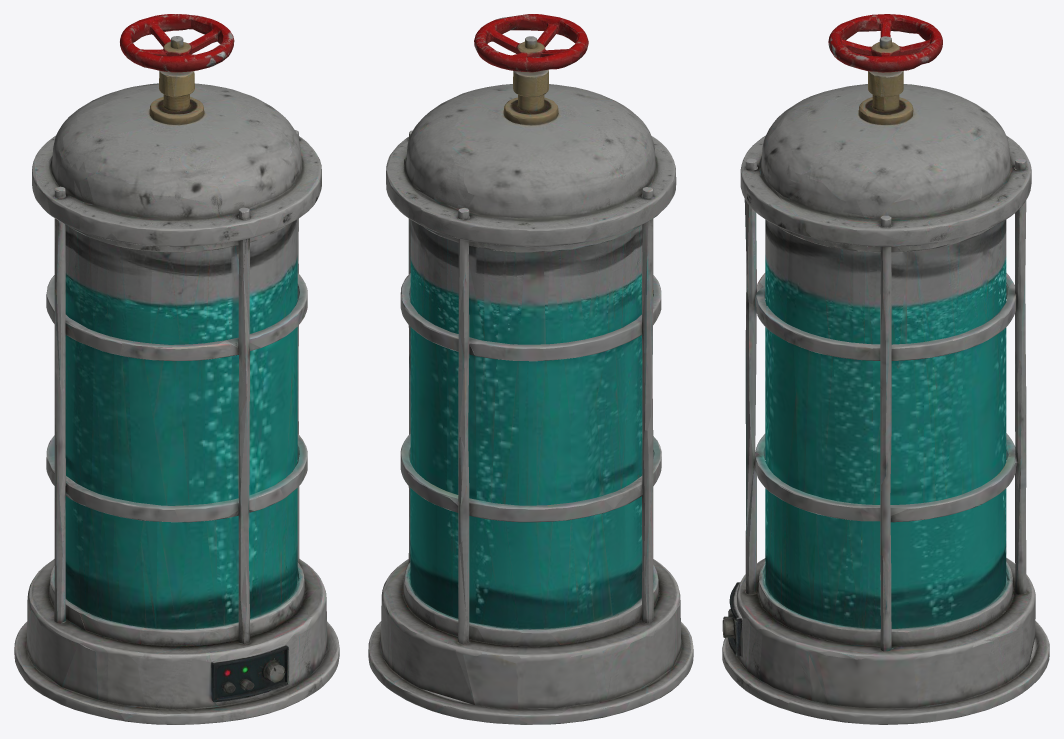
The model's file is district-o2-tank.glb.
3 views of the same model, side by side, from view 1: azimuth 30°, elevation 25°; view 2: azimuth 150°, elevation 25°; view 3: azimuth 270°, elevation 25° (orthographic).
Visible parts, largest first — view 1: output_unwrapped; view 2: output_unwrapped; view 3: output_unwrapped.
Part boxes in pixels (box(x1,y1,x2,y2)): output_unwrapped: box(14, 14, 339, 724); output_unwrapped: box(368, 14, 693, 724); output_unwrapped: box(722, 14, 1049, 724).
Size of the model in its own units: 0.907 by 1.9 by 0.9097.
Materials: 1 (1 with a texture image).
